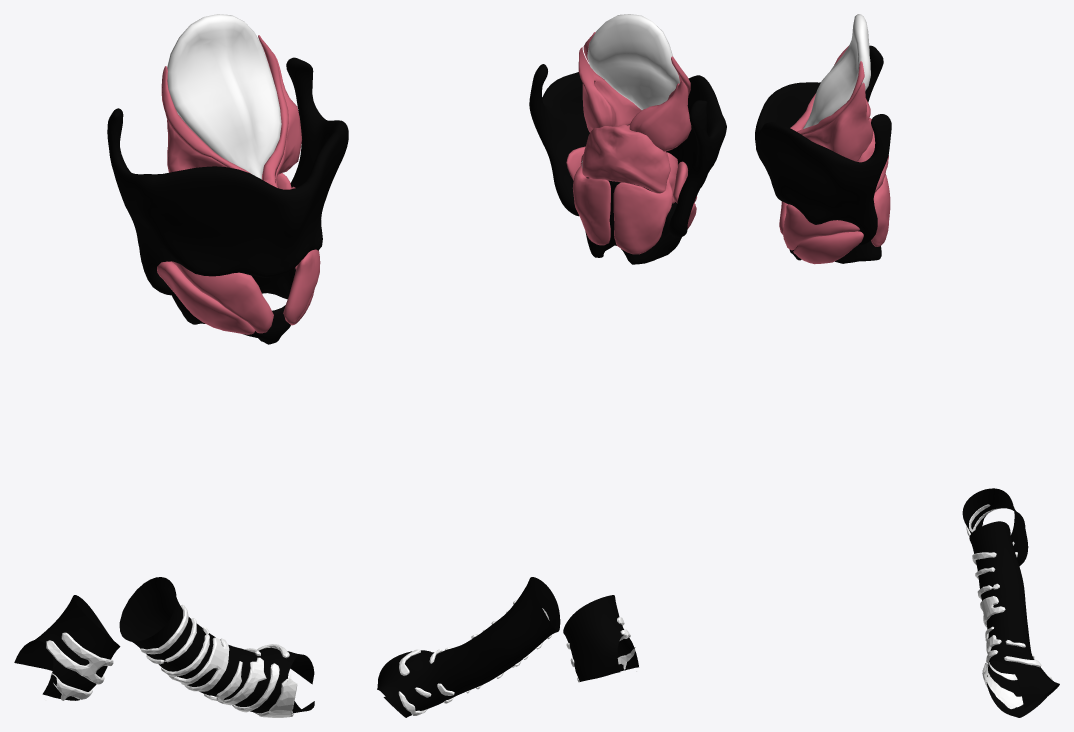
Rendered from 3d-vh-m-trachea-landmark.fbx.
3 views of the same model, side by side, from view 1: azimuth 30°, elevation 25°; view 2: azimuth 150°, elevation 25°; view 3: azimuth 270°, elevation 25° (orthographic). The views are drawn at different scales.
Visible parts, largest first — view 1: VH_M_trachea_landmark_larynx_laryngeal_cartilage, VH_M_trachea_landmark_main_bronchus, VH_M_trachea_landmark_muscles_of_larynx; view 2: VH_M_trachea_landmark_larynx_laryngeal_cartilage, VH_M_trachea_landmark_muscles_of_larynx, VH_M_trachea_landmark_main_bronchus; view 3: VH_M_trachea_landmark_larynx_laryngeal_cartilage, VH_M_trachea_landmark_main_bronchus, VH_M_trachea_landmark_muscles_of_larynx.
Boxes of the visible parts, bbox=[...] form: VH_M_trachea_landmark_larynx_laryngeal_cartilage: bbox=[107, 14, 348, 344]; VH_M_trachea_landmark_main_bronchus: bbox=[14, 577, 314, 717]; VH_M_trachea_landmark_muscles_of_larynx: bbox=[157, 35, 320, 334]; VH_M_trachea_landmark_larynx_laryngeal_cartilage: bbox=[529, 14, 726, 264]; VH_M_trachea_landmark_muscles_of_larynx: bbox=[566, 32, 696, 254]; VH_M_trachea_landmark_main_bronchus: bbox=[377, 577, 638, 717]; VH_M_trachea_landmark_larynx_laryngeal_cartilage: bbox=[755, 14, 891, 263]; VH_M_trachea_landmark_main_bronchus: bbox=[962, 488, 1059, 717]; VH_M_trachea_landmark_muscles_of_larynx: bbox=[779, 46, 890, 264].
Bounding box in the file's own units: 7.6 × 19.64 × 8.62.
